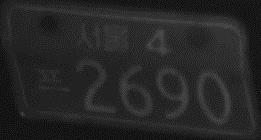0: (196, 70, 232, 125)
2: (74, 56, 118, 113)
4: (142, 27, 172, 61)
6: (118, 63, 155, 119)
9: (156, 65, 190, 121)
서울_O: (74, 20, 130, 53)
프: (32, 67, 69, 95)
